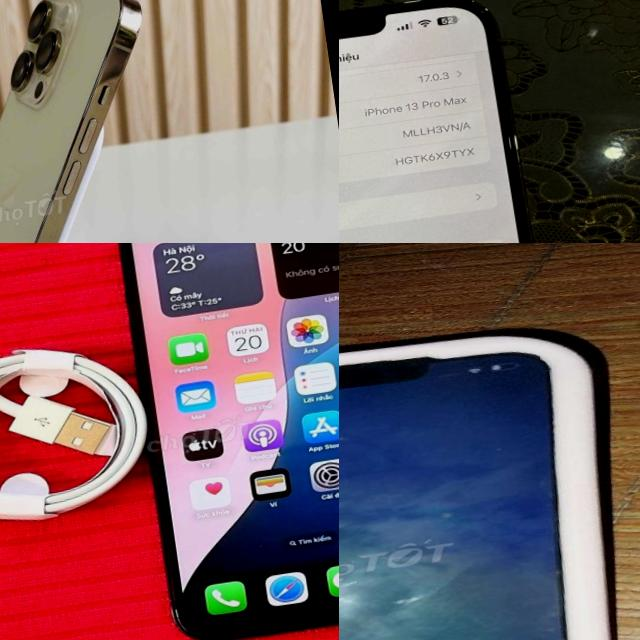gen_12_13: (106, 243, 339, 640), (339, 0, 575, 243)
gen_14: (339, 301, 640, 640), (0, 0, 141, 243)
